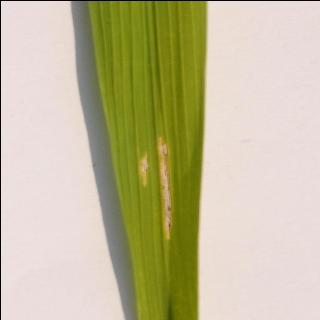Hawar-Daun: (130, 54, 187, 290)
